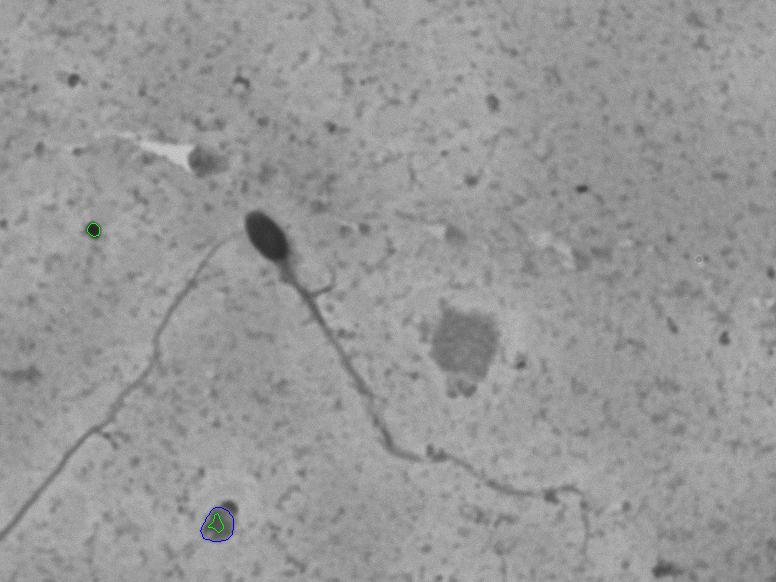Normal: (238, 196, 610, 559)
